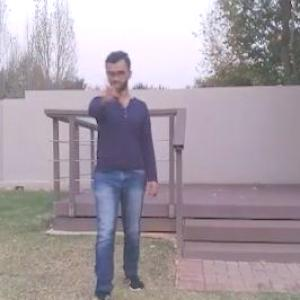takeoff-hand: (92, 68, 126, 102)
